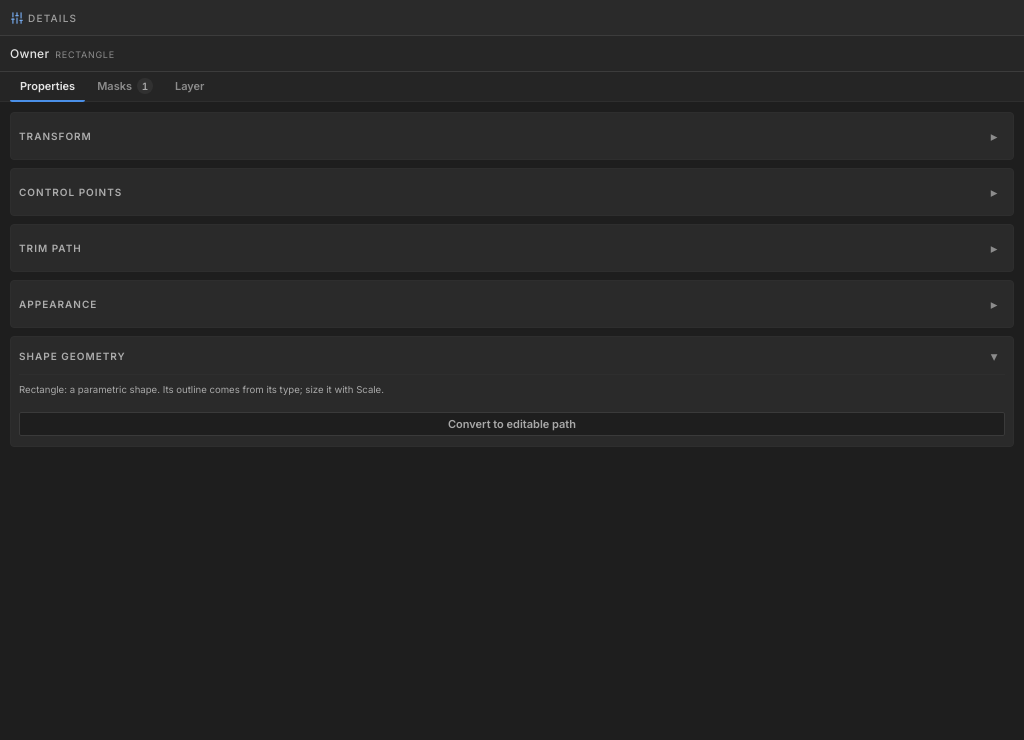
C10 LAYER MASKS card › offers none of the removed controls
Press the mouse on the tab "Masks 1" at [125, 87], box [87,72,163,102]
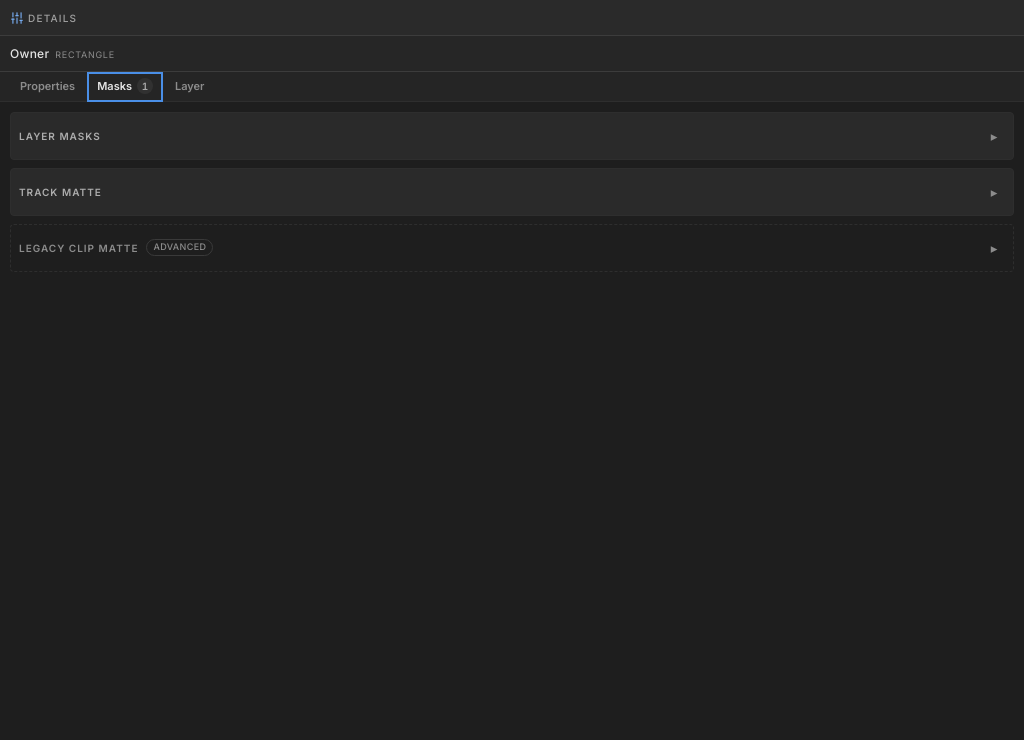
Click the button named "Expand LAYER MASKS". click: [994, 136]
box: [978,120,1010,152]
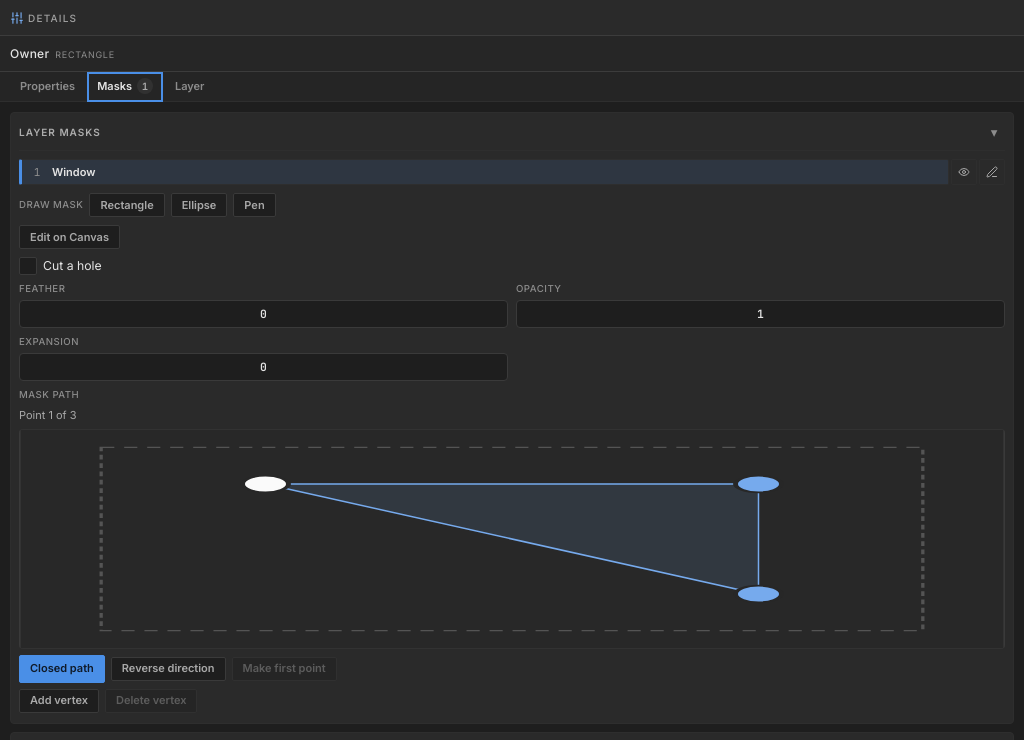
Expected: the button named "Enable Window" is shown, [951,159,977,185]
